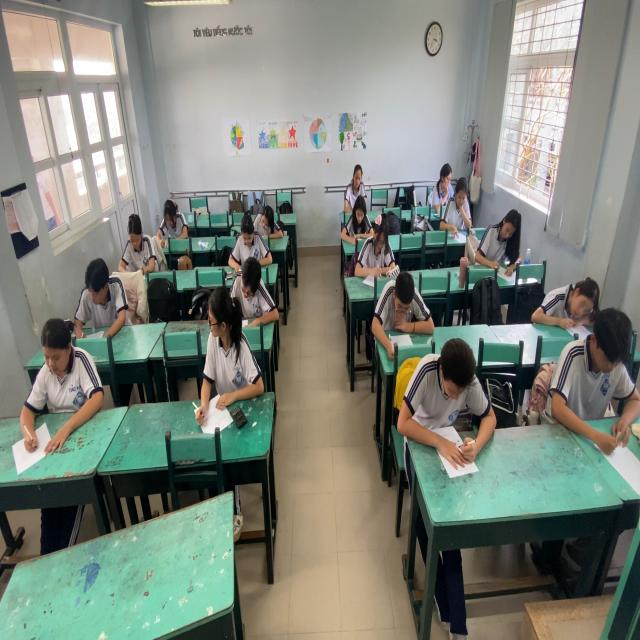cheating: (202, 289, 260, 409)
not_cheating: (556, 296, 633, 459), (24, 317, 102, 439), (414, 334, 483, 463), (76, 251, 122, 341), (376, 259, 426, 331), (474, 195, 519, 272), (540, 266, 594, 328), (117, 203, 157, 280), (359, 212, 400, 282), (232, 258, 274, 326), (233, 210, 275, 267), (152, 189, 191, 248), (252, 189, 288, 239), (443, 168, 473, 228), (343, 160, 368, 211), (345, 192, 369, 239), (434, 162, 454, 203)
